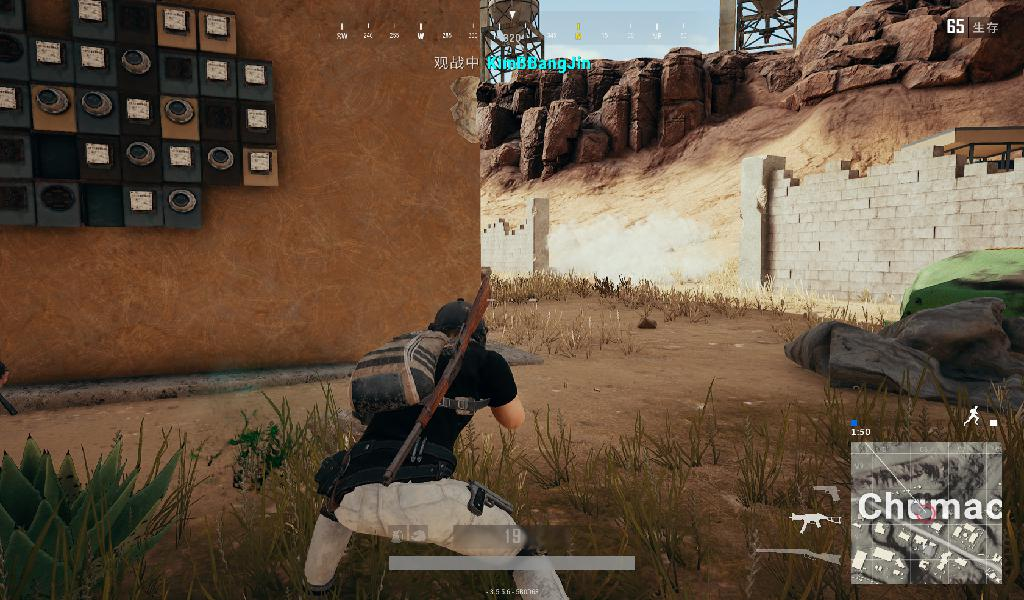Target Person: (294, 276, 570, 600)
